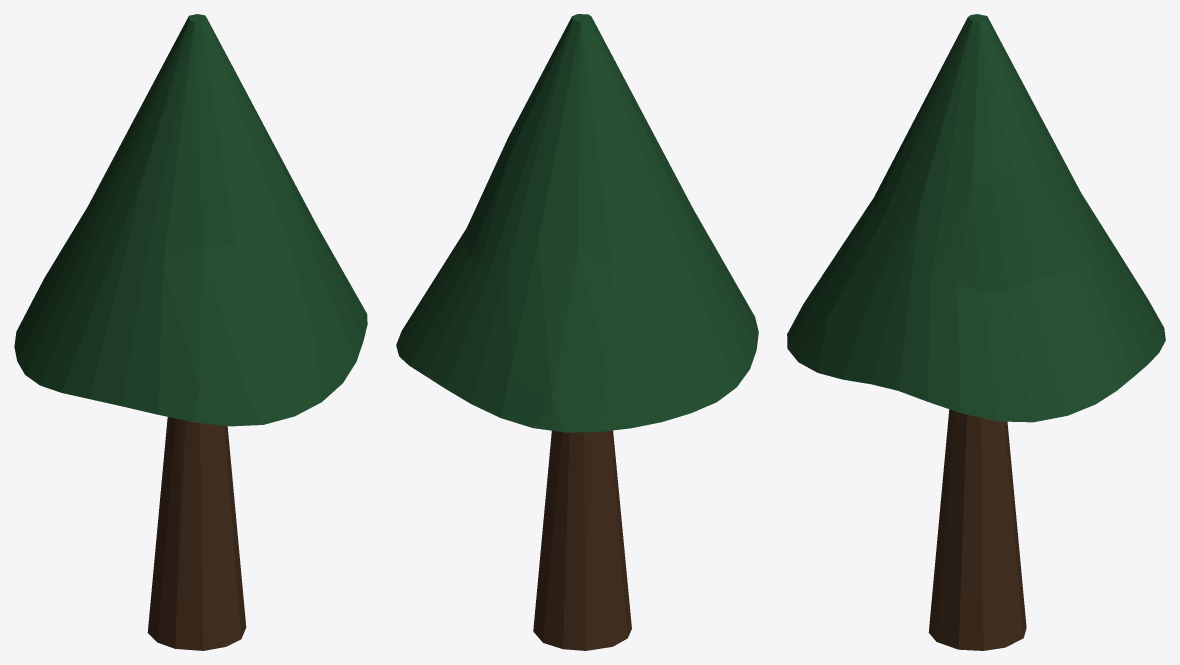
File: Pine.fbx
3 views of the same model, side by side, from view 1: azimuth 30°, elevation 25°; view 2: azimuth 150°, elevation 25°; view 3: azimuth 270°, elevation 25° (orthographic).
Parts seen in each view (by area): view 1: Tree; view 2: Tree; view 3: Tree.
Boxes of the visible parts, x1,y1,x2,y2 form: Tree: (14,14,367,650); Tree: (396,14,758,650); Tree: (787,14,1165,650).
Bounding box in the file's own units: 206 × 385 × 216.
